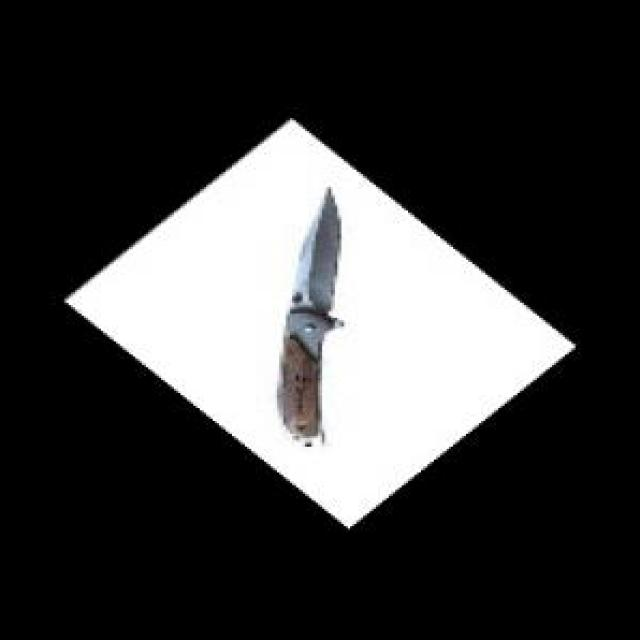knife: (279, 182, 345, 458)
